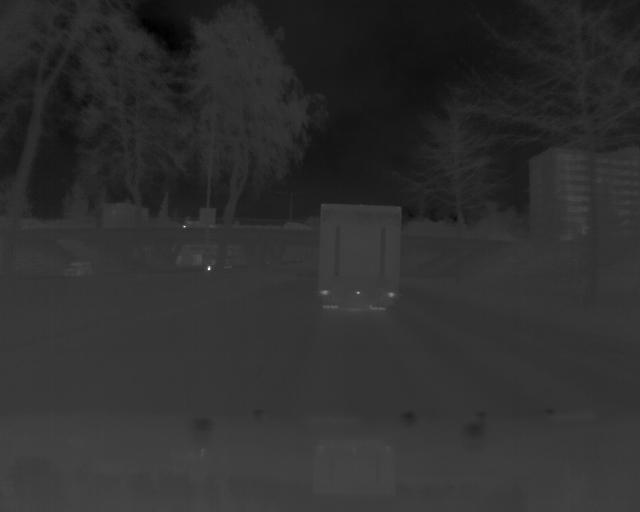car: (316, 201, 403, 320), (65, 259, 93, 277)
